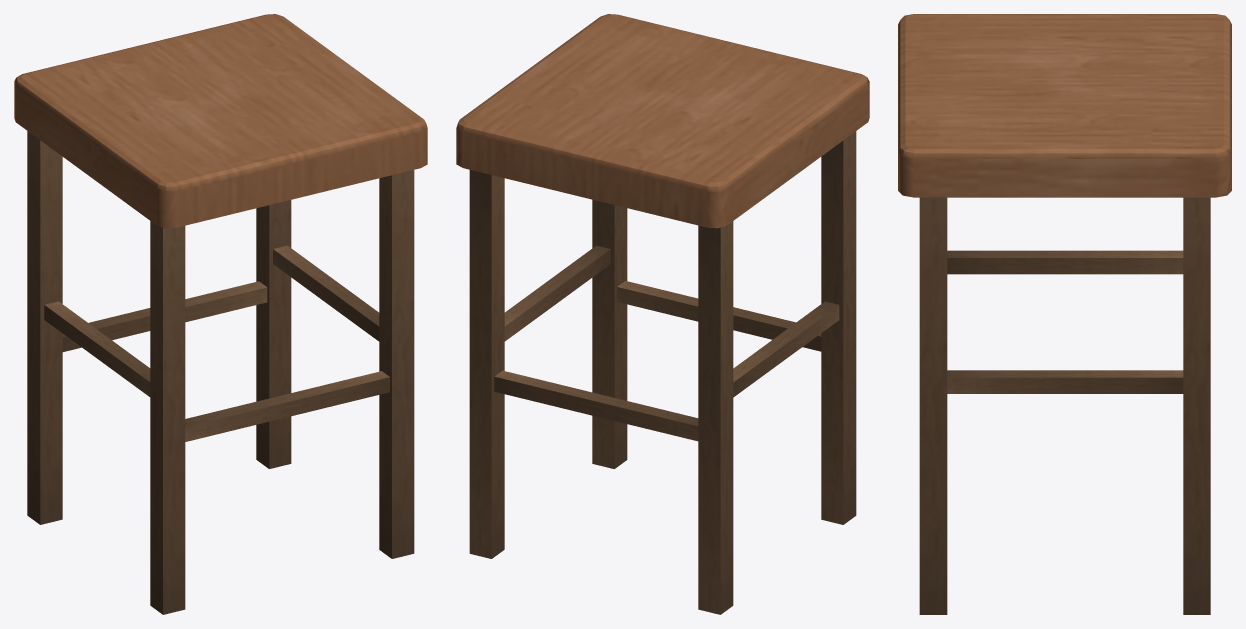
The model's file is stool5.fbx.
3 renders of one model, left to right at view 1: azimuth 30°, elevation 25°; view 2: azimuth 150°, elevation 25°; view 3: azimuth 270°, elevation 25°, orthographic. The views are drawn at different scales.
Parts seen in each view (by area): view 1: polySurface1077; view 2: polySurface1077; view 3: polySurface1077.
Part boxes in pixels (<box>): polySurface1077: <box>14,14,427,614</box>; polySurface1077: <box>456,14,869,614</box>; polySurface1077: <box>898,14,1231,614</box>.
Bounding box in the file's own units: 48.51 × 74.99 × 48.51.
Materials: 1 (1 with a texture image).
